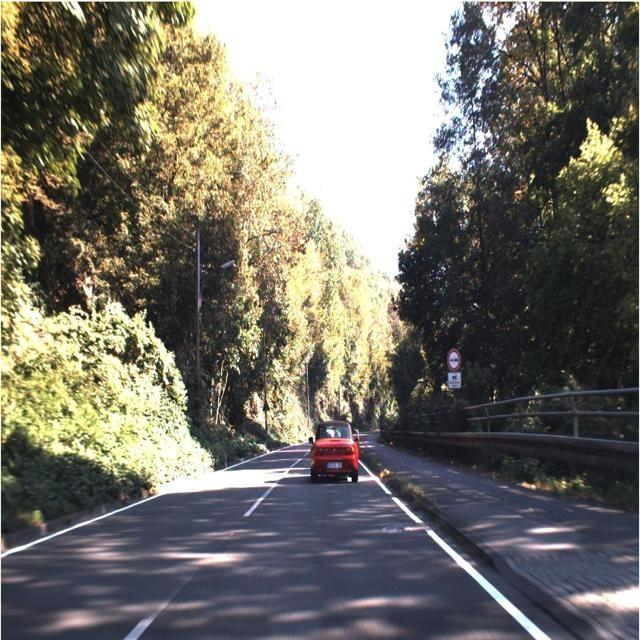forb_overtake: (447, 348, 461, 372)
